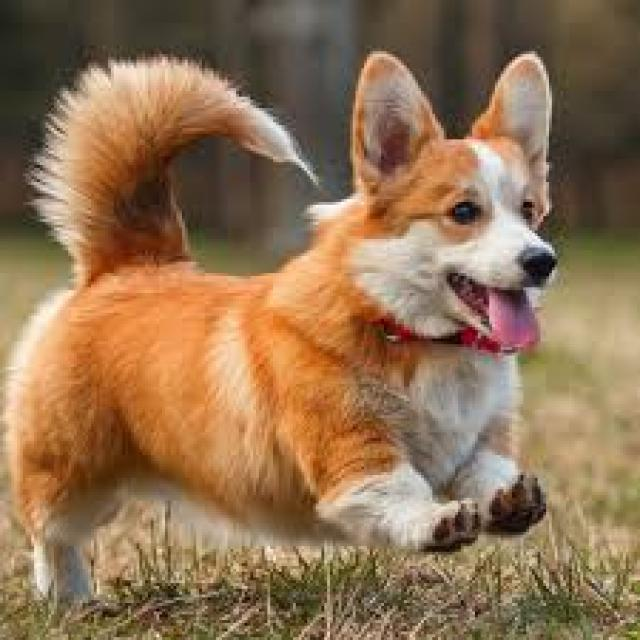CORGI: (0, 26, 563, 612)
